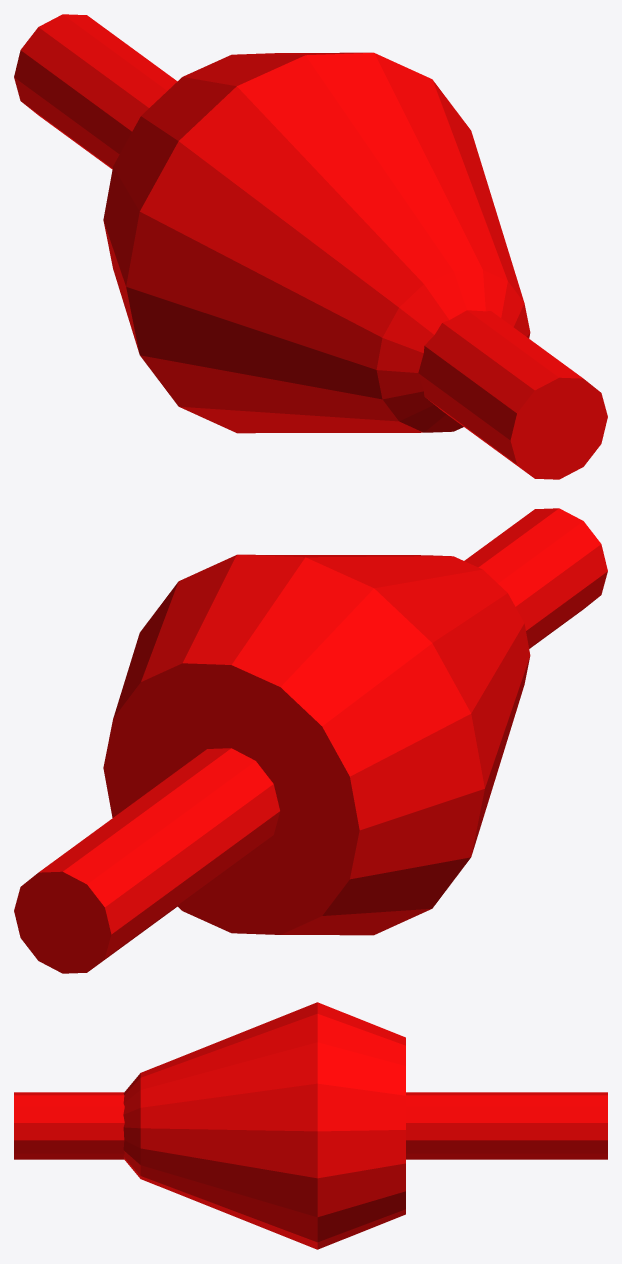
The model's file is CRANK-ROOT-LINK_link_mesh.dae.
3 views of the same model, one above another, from view 1: azimuth 30°, elevation 25°; view 2: azimuth 150°, elevation 25°; view 3: azimuth 270°, elevation 25° (orthographic). The views are drawn at different scales.
Parts seen in each view (by area): view 1: CRANK-ROOT-LINK_link (×2); view 2: CRANK-ROOT-LINK_link (×2); view 3: CRANK-ROOT-LINK_link (×2).
Part boxes in pixels (x1,y1,x2,y2): CRANK-ROOT-LINK_link (×2): [14, 14, 607, 479]; CRANK-ROOT-LINK_link (×2): [14, 508, 607, 973]; CRANK-ROOT-LINK_link (×2): [14, 1002, 607, 1249].
Bounding box in the file's own units: 0.1473 × 0.1473 × 0.353.
